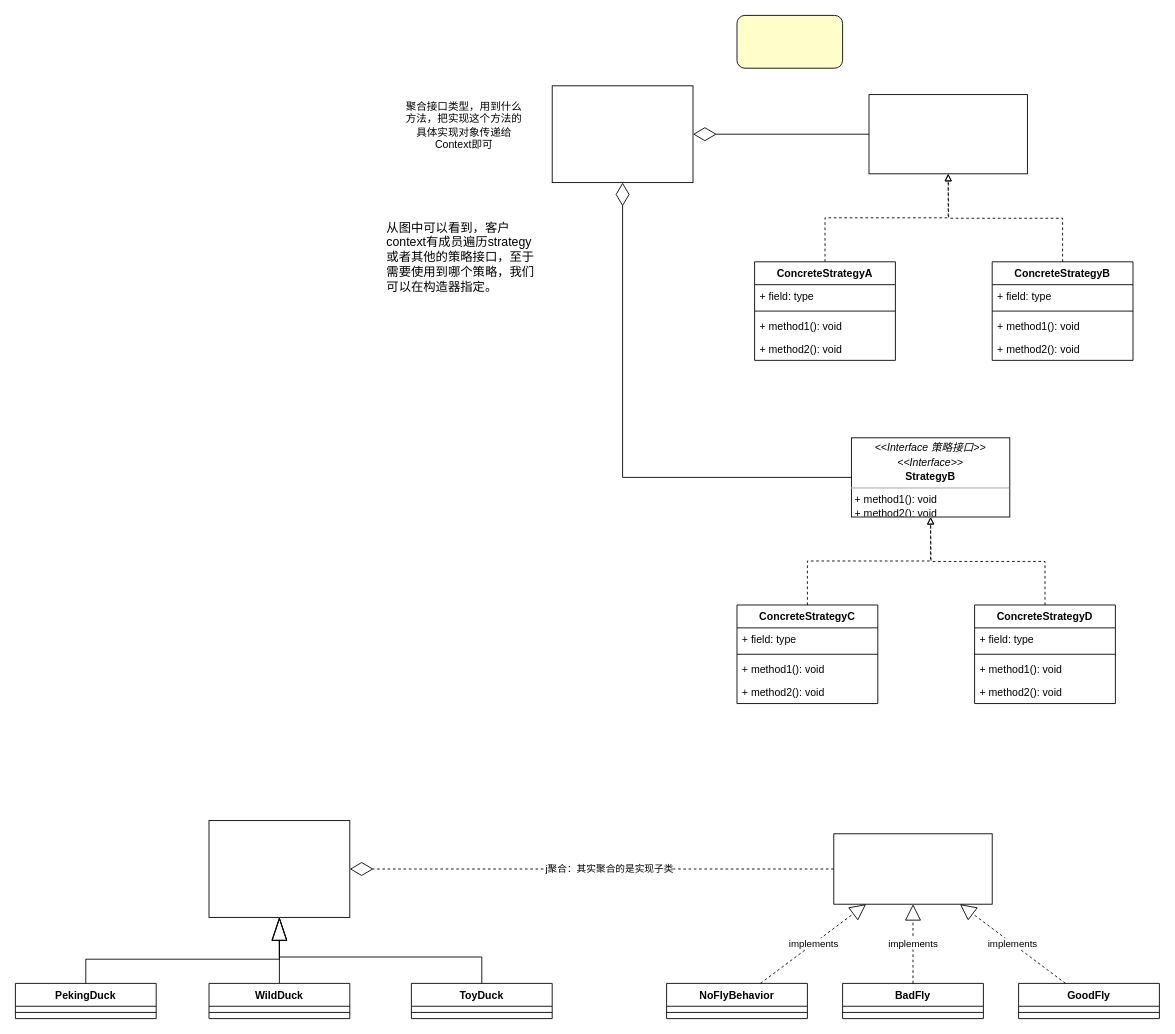
Some shapes in this 1175 by 1034 pixel diagram are drawn without their labels. The centre of each missing label's shape, as x and y in pixels:
"<<Interface 策略接口>> Strategy + method1(): void + method2(): void" belongs at point (947, 134).
"<<Interface>> FlyBehavior + fly(): void" belongs at point (912, 868).
"Context + strategy1: strategy + strategy2: strategyB + methodx(): void" belongs at point (622, 134).
"Duck + flyBehavior: F;yBehavior + methodx(): void" belongs at point (279, 868).
"策略模式" belongs at point (789, 41).
